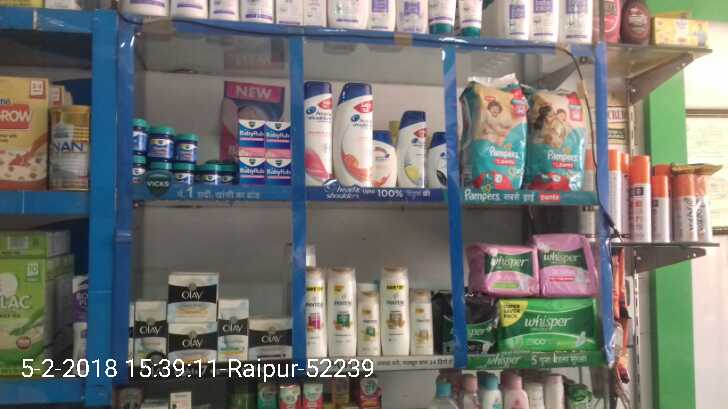beauty: (299, 85, 338, 191), (335, 82, 371, 192), (374, 268, 411, 356), (392, 109, 430, 192), (326, 271, 356, 354), (167, 275, 217, 322), (302, 267, 327, 359), (167, 322, 218, 367), (132, 307, 169, 368), (249, 317, 292, 367), (217, 300, 250, 364), (412, 284, 439, 357), (355, 278, 379, 357), (369, 128, 394, 191)
pharmacy: (461, 81, 530, 191), (133, 117, 235, 187), (529, 88, 587, 196), (498, 296, 601, 351), (529, 233, 602, 296), (469, 241, 539, 299), (237, 119, 265, 158), (265, 122, 290, 159), (265, 158, 293, 183), (235, 157, 263, 180)
